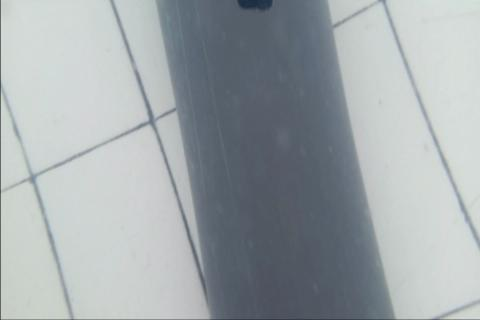kebocoran: (236, 0, 275, 14)
